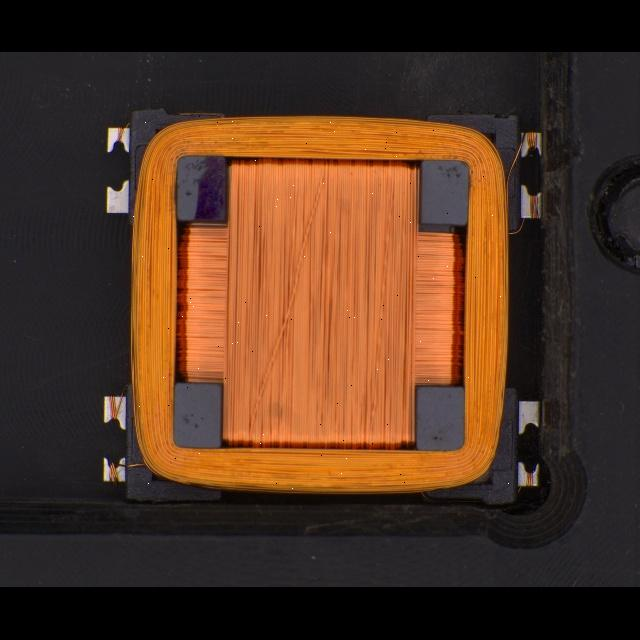Winding_Z: (123, 109, 515, 500)
